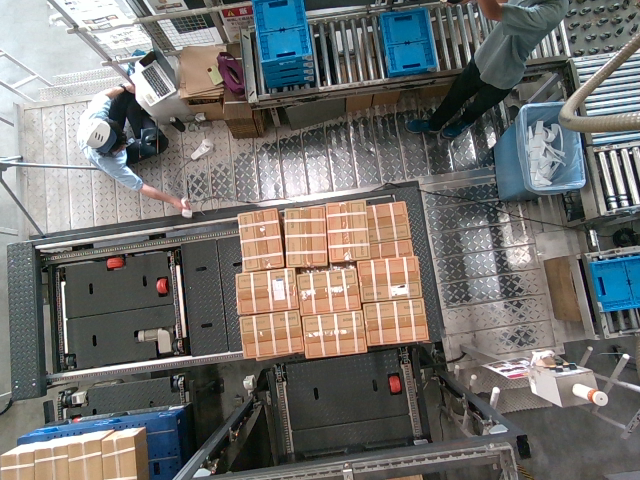box: (303, 310, 365, 358), (281, 203, 327, 266), (234, 209, 282, 268), (362, 303, 427, 345), (232, 270, 298, 310), (235, 314, 301, 354), (299, 269, 361, 311), (357, 259, 421, 298), (326, 200, 368, 259)
